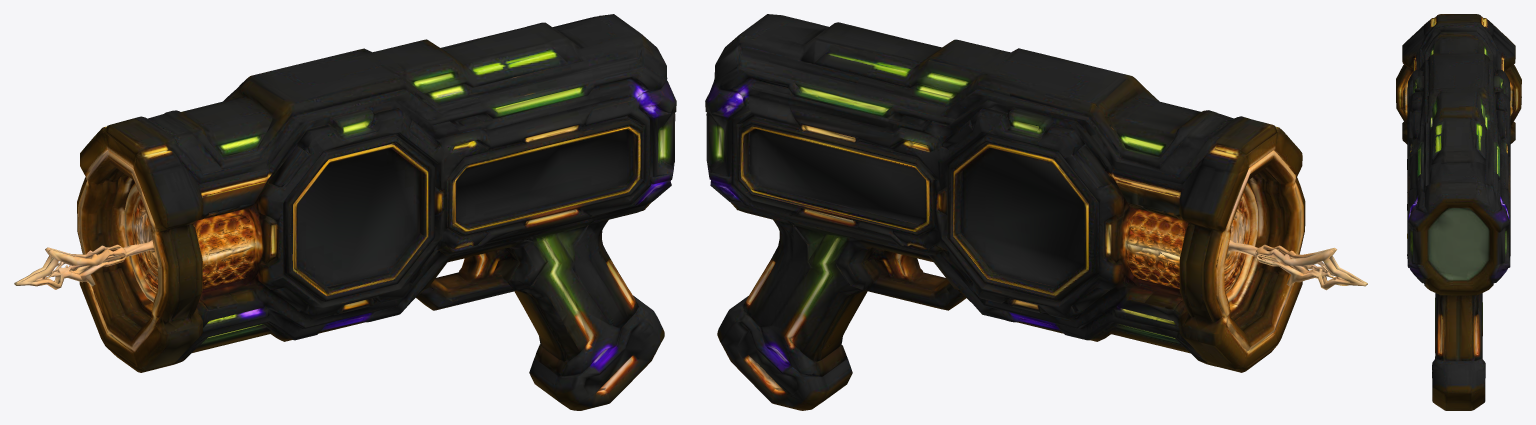
The model's file is sponsor-gun.glb.
3 views of the same model, side by side, from view 1: azimuth 30°, elevation 25°; view 2: azimuth 150°, elevation 25°; view 3: azimuth 270°, elevation 25° (orthographic). The views are drawn at different scales.
Parts seen in each view (by area): view 1: material; view 2: material; view 3: material.
Boxes of the visible parts, x1,y1,x2,y2 form: material: (14,14,676,410); material: (705,14,1367,410); material: (1396,14,1521,410).
Bounding box in the file's own units: 1.11 × 0.6386 × 0.2886.
1 material, 1 textured.
